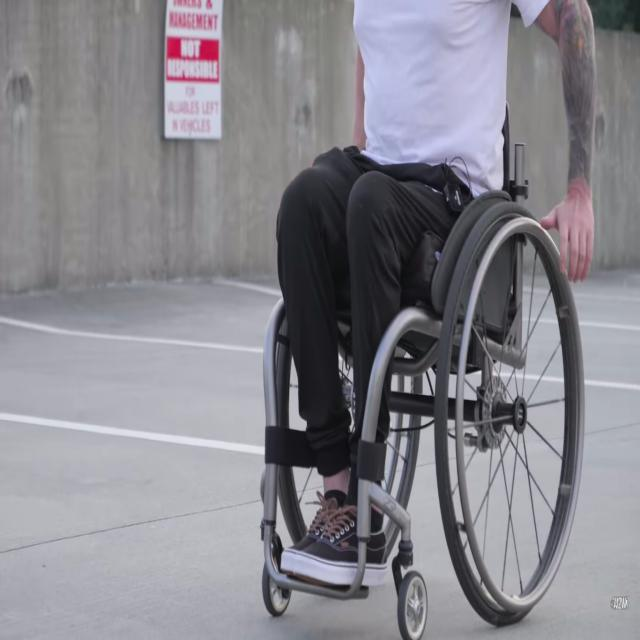wheelchairs: (243, 132, 583, 635)
